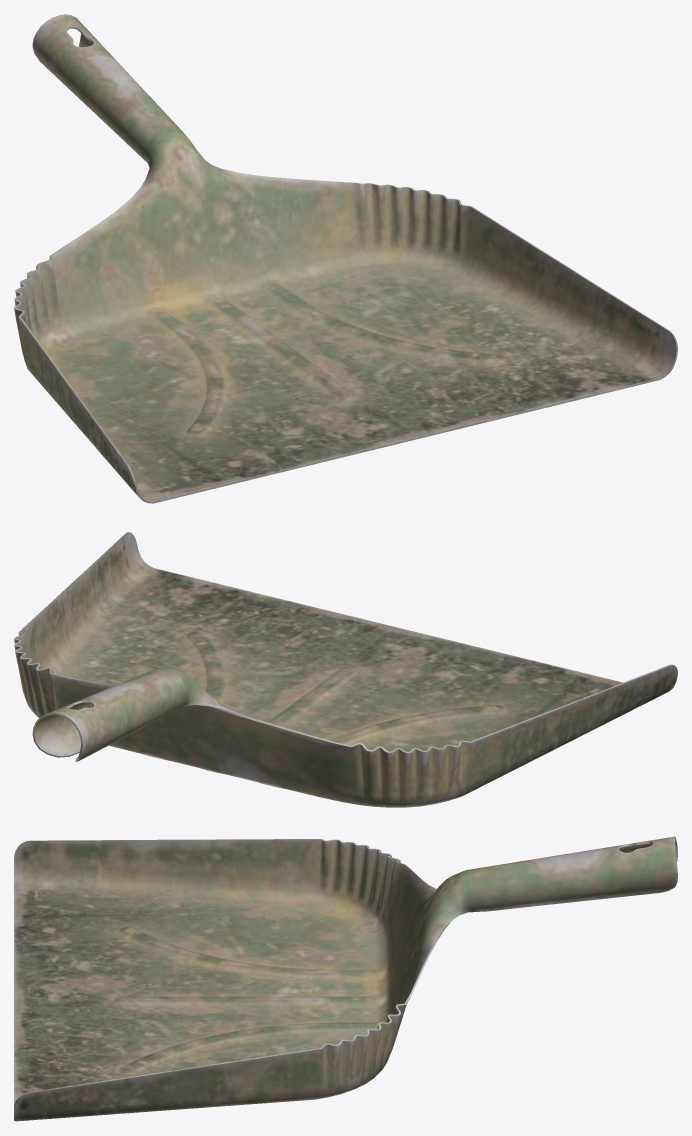
File: ph_dustpan.glb
3 views of the same model, one above another, from view 1: azimuth 30°, elevation 25°; view 2: azimuth 150°, elevation 25°; view 3: azimuth 270°, elevation 25° (orthographic). The views are drawn at different scales.
Visible parts, largest first — view 1: dustpan; view 2: dustpan; view 3: dustpan.
Boxes of the visible parts, box(x1,y1,x2,y2) form: dustpan: box(14, 14, 677, 503); dustpan: box(14, 532, 677, 807); dustpan: box(14, 836, 677, 1121).
Bounding box in the file's own units: 0.3321 × 0.1003 × 0.368.
1 material, 1 textured.
